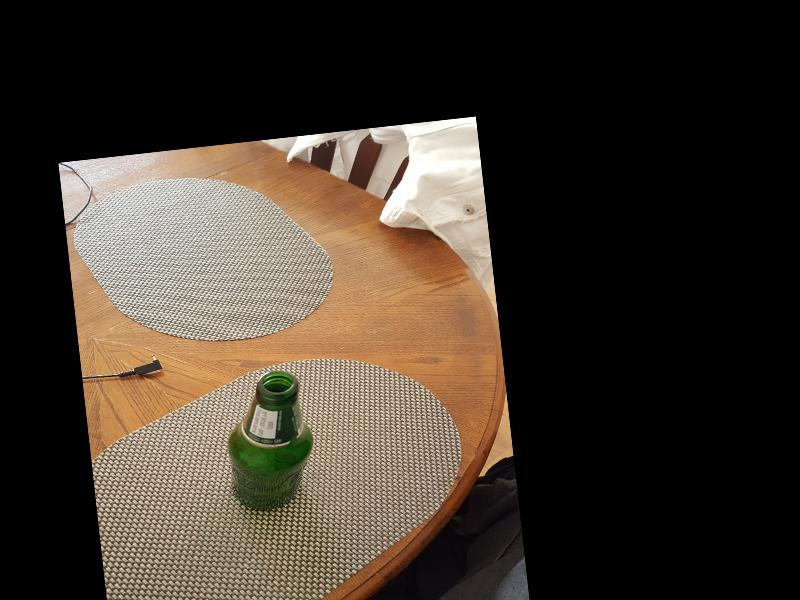Beer: (221, 369, 321, 514)
